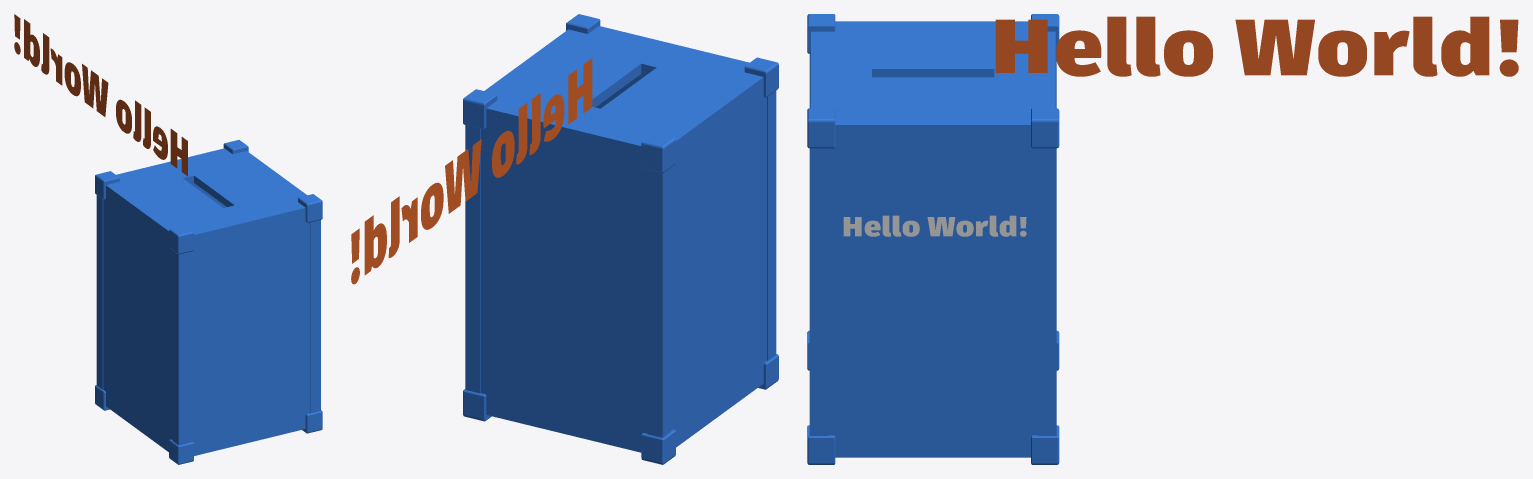
The model's file is asset.glb.
3 renders of one model, left to right at view 1: azimuth 30°, elevation 25°; view 2: azimuth 150°, elevation 25°; view 3: azimuth 270°, elevation 25°, orthographic. The views are drawn at different scales.
Parts seen in each view (by area): view 1: hako, hone_2, Text.001, hone_1; view 2: hako, hone_2, Text.001, hone_1; view 3: hako, Text.001, hone_2, hone_1, Text.
Boxes of the visible parts, left/top/right/bottom form: hako: left=103, top=148, right=309, bottom=455; hone_2: left=96, top=195, right=320, bottom=445; Text.001: left=14, top=14, right=187, bottom=176; hone_1: left=95, top=140, right=322, bottom=464; hako: left=480, top=26, right=766, bottom=452; hone_2: left=465, top=90, right=776, bottom=437; Text.001: left=351, top=58, right=592, bottom=284; hone_1: left=463, top=14, right=778, bottom=464; hako: left=811, top=21, right=1055, bottom=457; Text.001: left=995, top=16, right=1518, bottom=76; hone_2: left=809, top=53, right=1056, bottom=435; hone_1: left=807, top=14, right=1059, bottom=464; Text: left=843, top=215, right=1026, bottom=236.
Size of the model in its own units: 2.06 by 3.57 by 5.82.
